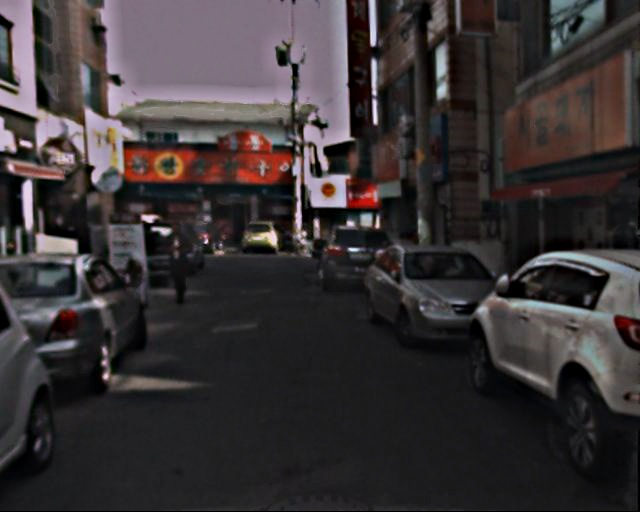person: (162, 221, 200, 306)
